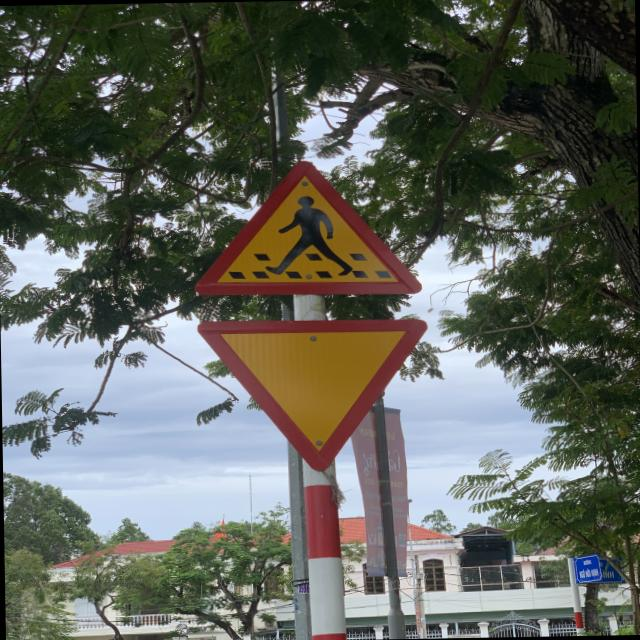Duong_Nguoi_Di_Bo_Sang_Ngang: (192, 160, 424, 294)
Gioi_Han_Toc_Do_25: (200, 316, 428, 472)
